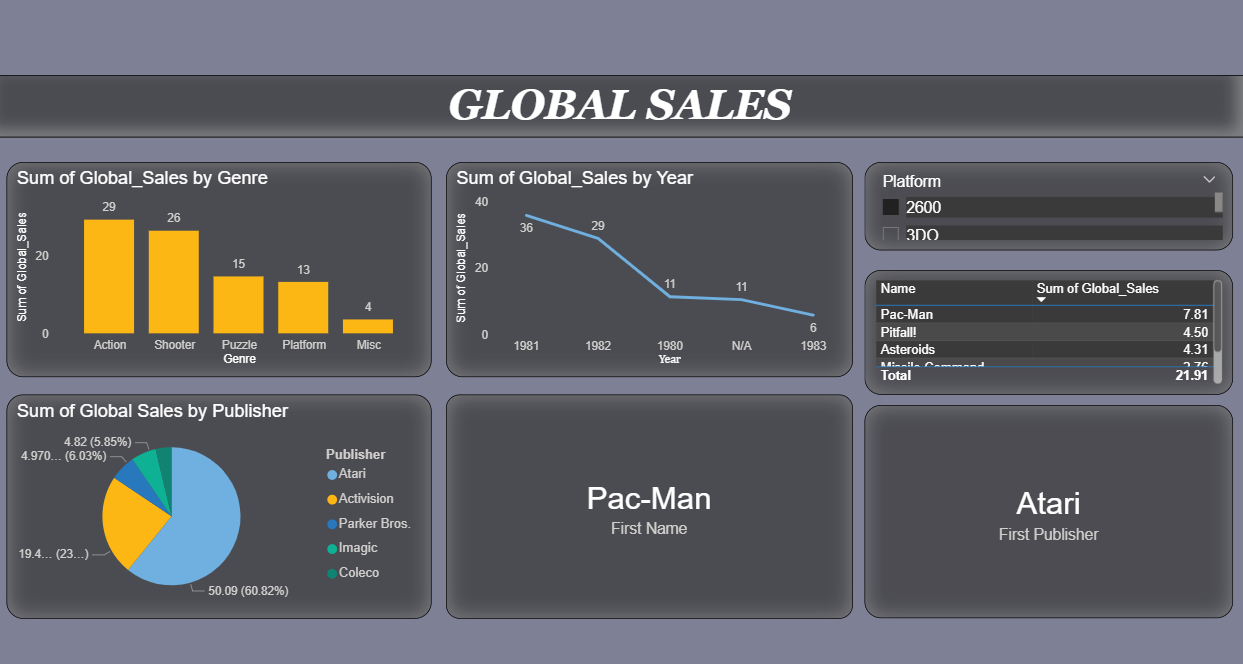

The page's visual inventory and layout, read from the dashboard file:
{"tool":"powerbi","page":{"name":"Global_Sales","canvas":[1280,720],"ordinal":5},"visuals":[{"type":"clusteredColumnChart","fields":{"Y":["Sum(vgsales xlsx - vgsales.Global_Sales)"],"Category":["vgsales xlsx - vgsales.Genre"]},"box":[10.9,168.8,436.1,220.4],"z":0},{"type":"lineChart","fields":{"Category":["vgsales xlsx - vgsales.Year"],"Y":["Sum(vgsales xlsx - vgsales.Global_Sales)"]},"box":[461.1,168.8,417.3,220.4],"z":1000},{"type":"pieChart","title":"Sum of Global Sales by Publisher","fields":{"Category":["vgsales xlsx - vgsales.Publisher"],"Y":["Sum(vgsales xlsx - vgsales.Global_Sales)"]},"box":[10.9,407.9,436.1,229.8],"z":2000},{"type":"tableEx","fields":{"Values":["vgsales xlsx - vgsales.Name","Sum(vgsales xlsx - vgsales.Global_Sales)"]},"box":[890.9,279.8,378.2,128.2],"z":3000},{"type":"slicer","fields":{"Values":["vgsales xlsx - vgsales.Platform"]},"box":[890.9,168.8,378.2,90.7],"z":4000},{"type":"card","fields":{"Values":["Min(vgsales xlsx - vgsales.Name)"]},"box":[461.1,407.9,417.3,229.8],"z":5000},{"type":"card","fields":{"Values":["Min(vgsales xlsx - vgsales.Publisher)"]},"box":[890.9,418.9,378.2,218.8],"z":6000},{"type":"textbox","box":[0,80,1280,64],"z":7000}]}

Visuals, with their boxes on the page's 1280x720 design canvas (x1, y1, x2, y2). These are canvas units, not pixel positions in the 1243x664 screenshot, which may show the page scaled, cropped or inside an application window:
clusteredColumnChart - Sum(vgsales xlsx - vgsales.Global_Sales) x vgsales xlsx - vgsales.Genre: 11,169,447,389
lineChart - vgsales xlsx - vgsales.Year x Sum(vgsales xlsx - vgsales.Global_Sales): 461,169,878,389
"Sum of Global Sales by Publisher" pieChart: 11,408,447,638
tableEx - vgsales xlsx - vgsales.Name x Sum(vgsales xlsx - vgsales.Global_Sales): 891,280,1269,408
slicer - vgsales xlsx - vgsales.Platform: 891,169,1269,260
card - Min(vgsales xlsx - vgsales.Name): 461,408,878,638
card - Min(vgsales xlsx - vgsales.Publisher): 891,419,1269,638
textbox: 0,80,1280,144
